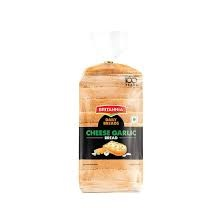Britannaia cheese garlic: (78, 62, 146, 194)
